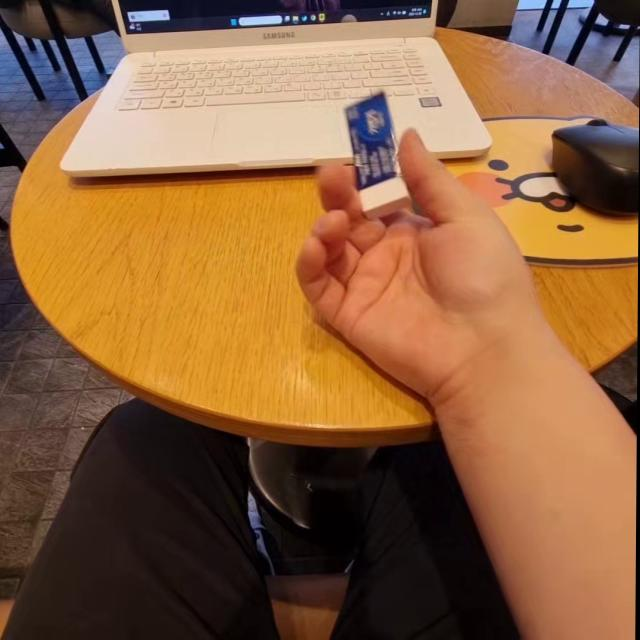grab_eraser: (293, 88, 544, 423)
mouse: (547, 111, 639, 229)
